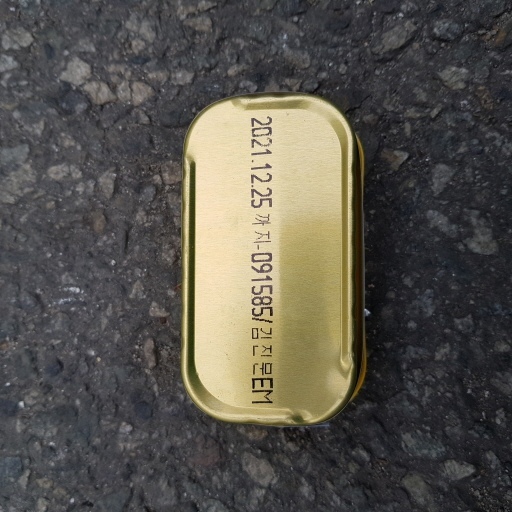Metal_2: (179, 90, 371, 428)
